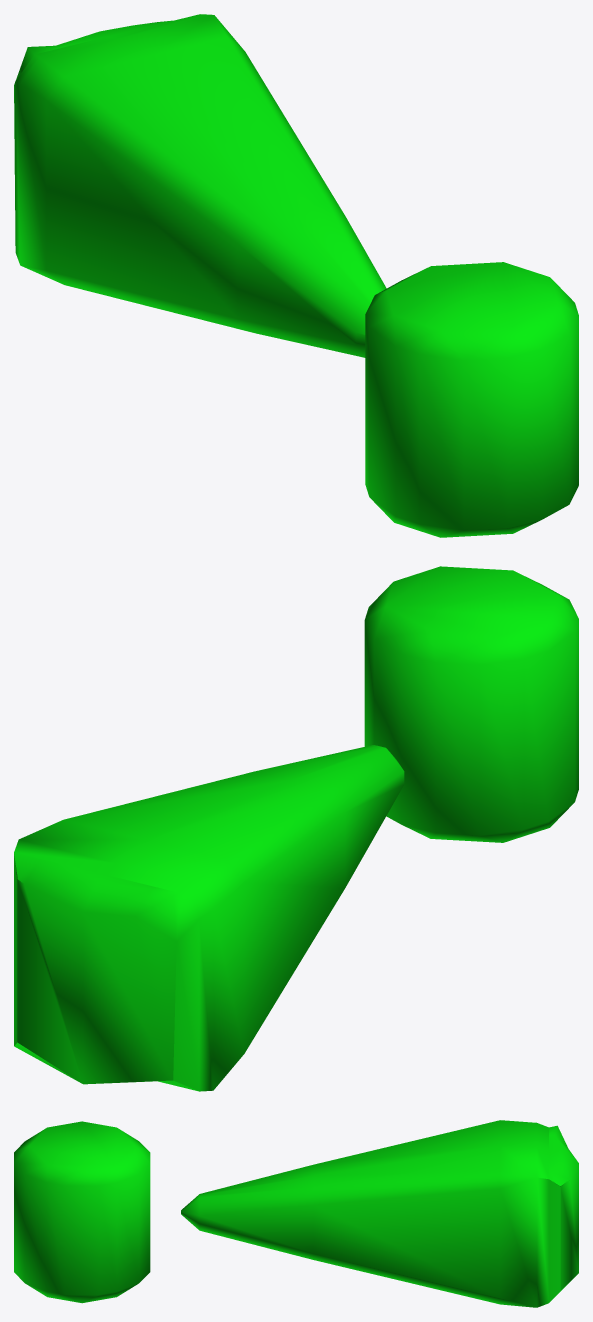
The model's file is Exclamation.fbx.
3 views of the same model, one above another, from view 1: azimuth 30°, elevation 25°; view 2: azimuth 150°, elevation 25°; view 3: azimuth 270°, elevation 25° (orthographic). The views are drawn at different scales.
Visible parts, largest first — view 1: Excla, Point; view 2: Excla, Point; view 3: Excla, Point.
Part boxes in pixels (left/top/right/bottom): Excla: left=14, top=14, right=386, bottom=357; Point: left=365, top=262, right=578, bottom=537; Excla: left=14, top=745, right=404, bottom=1091; Point: left=364, top=566, right=578, bottom=842; Excla: left=181, top=1120, right=578, bottom=1307; Point: left=14, top=1121, right=150, bottom=1303.
Size of the model in its own units: 111 by 111 by 425.
